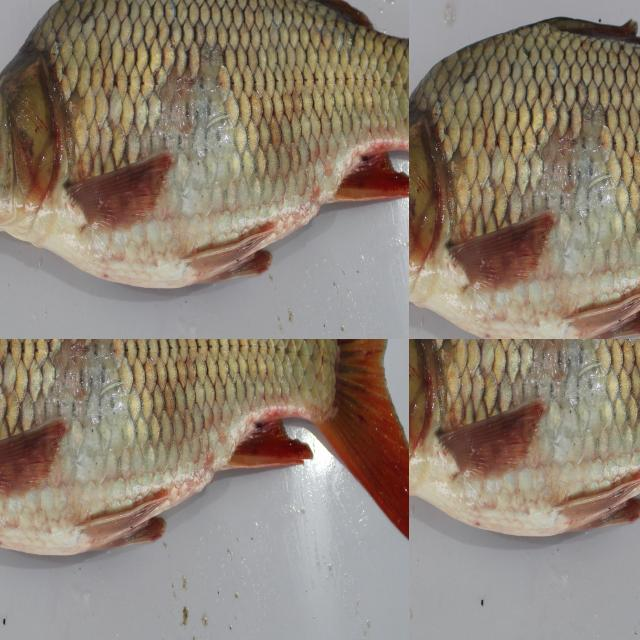fish: (409, 13, 640, 339), (409, 339, 640, 564)
